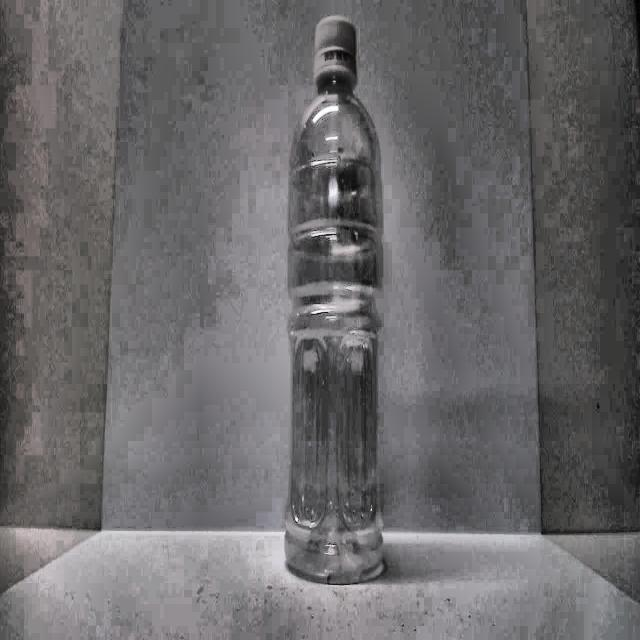Bottles: (275, 10, 399, 600)
